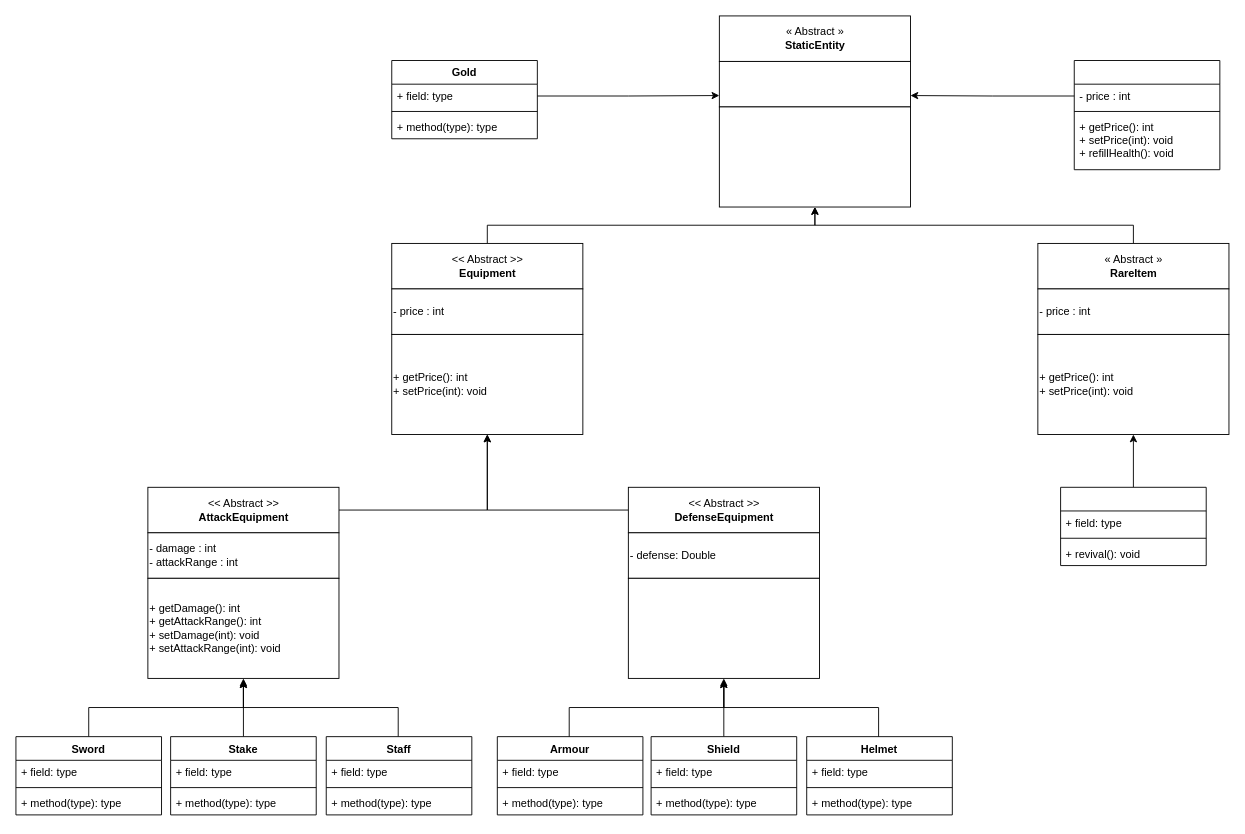
Some shapes in this 1245 by 834 pixel diagram are drawn without their labels. The box of each missing label's shape, as (x1, y1, x2, y2) in pixels:
+ getDefense(): Double + setDefense(Double): void: (627, 577, 819, 678)
+ x(): IntegerProperty + y(): IntegerProperty +getX(): int +getY(): int: (718, 106, 910, 207)
-x,y: IntegerProperty: (718, 61, 910, 107)
Health Potion: (1073, 60, 1220, 170)
The One Ring: (1060, 486, 1206, 566)
